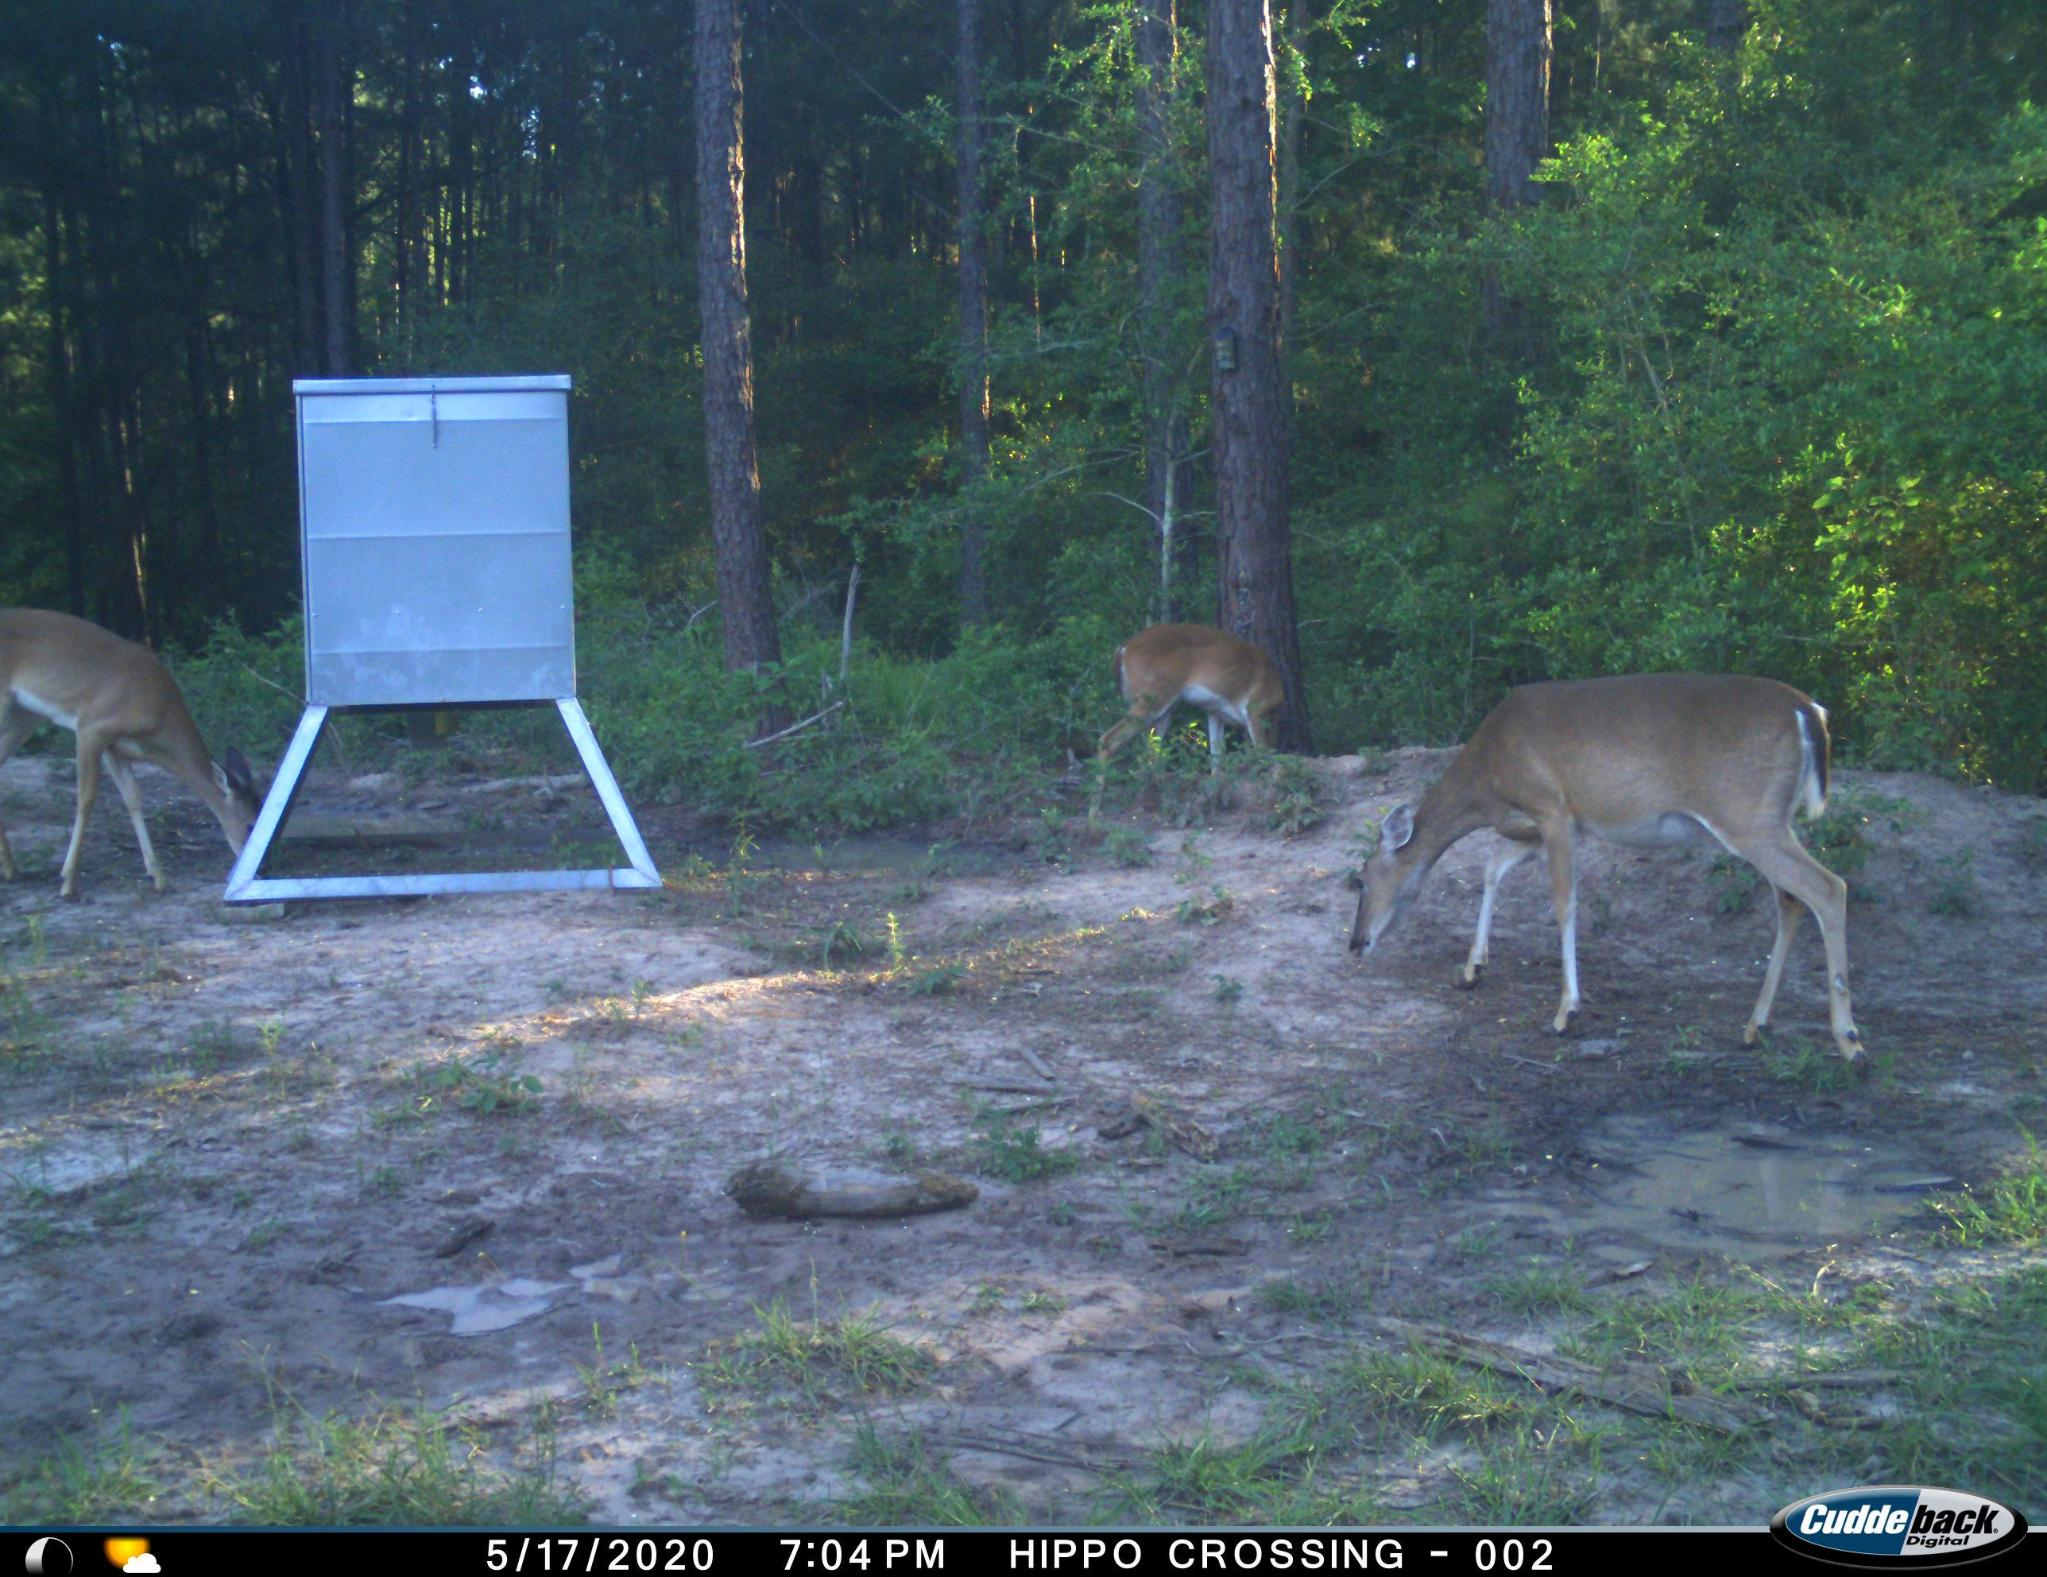Deer: (1338, 668, 1880, 1082), (0, 603, 273, 909), (1091, 616, 1292, 790)
